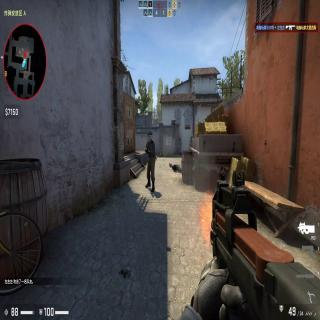T-Body: (144, 130, 156, 192)
T-Head: (147, 130, 152, 142), (169, 162, 172, 168)
